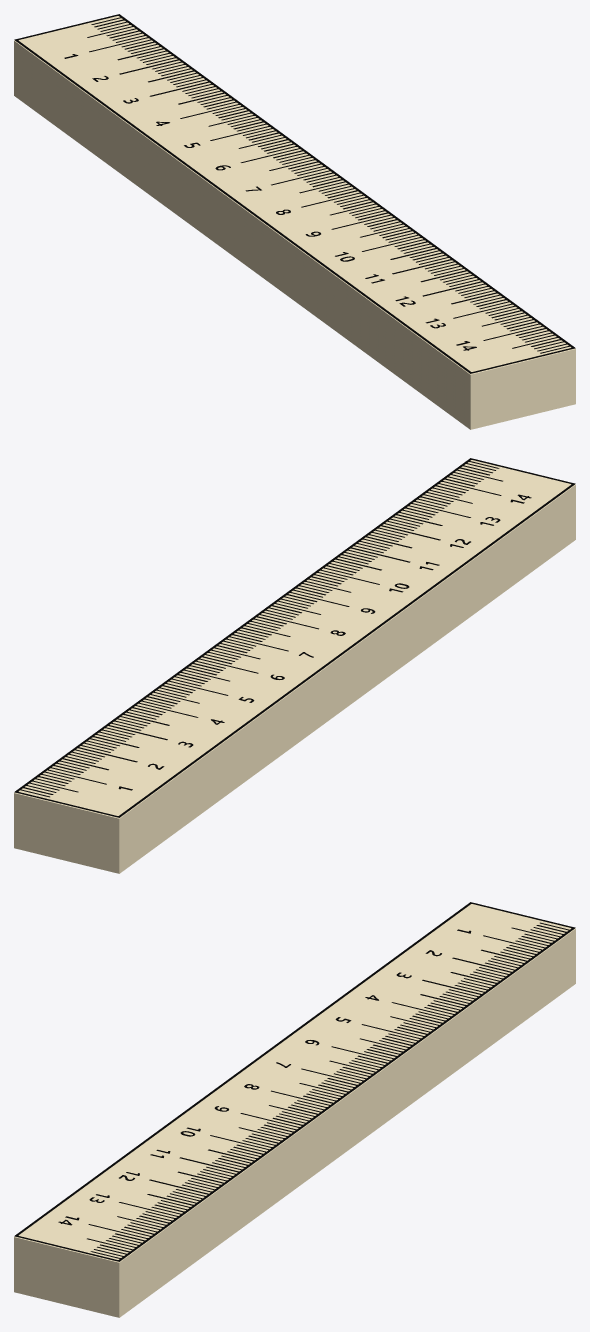
Rendered from ruler.glb.
3 renders of one model, top to bottom at view 1: azimuth 30°, elevation 25°; view 2: azimuth 150°, elevation 25°; view 3: azimuth 330°, elevation 25°, orthographic.
Visible parts, largest first — view 1: PF_RULER__go1139__mesh0, Sticker__go997__mesh0; view 2: PF_RULER__go1139__mesh0, Sticker__go997__mesh0; view 3: PF_RULER__go1139__mesh0, Sticker__go997__mesh0.
Boxes of the visible parts, x1,y1,x2,y2 form: PF_RULER__go1139__mesh0: (14, 16, 575, 429); Sticker__go997__mesh0: (14, 14, 575, 373); PF_RULER__go1139__mesh0: (14, 460, 575, 873); Sticker__go997__mesh0: (14, 458, 575, 817); PF_RULER__go1139__mesh0: (14, 904, 575, 1317); Sticker__go997__mesh0: (14, 902, 575, 1261).
Bounding box in the file's own units: 0.02 × 0.0102 × 0.15.
Materials: 2 (1 with a texture image).
